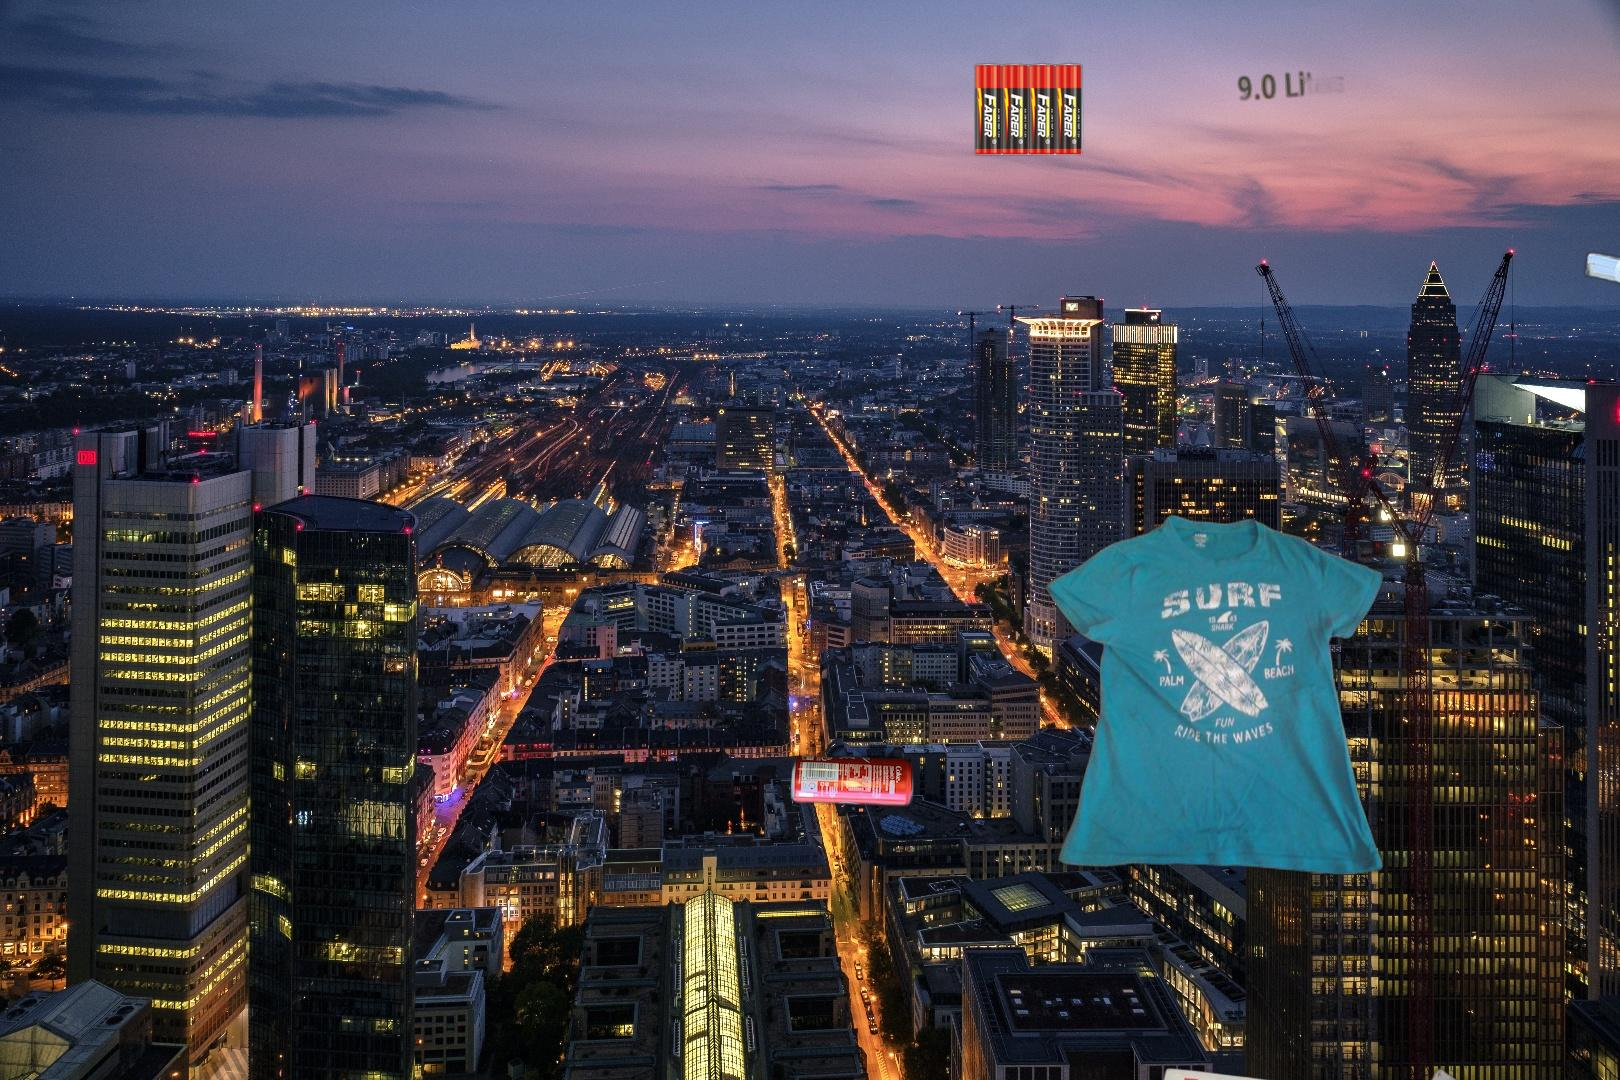battery: (958, 37, 1086, 159)
clothes: (1041, 510, 1386, 879)
glass: (1366, 247, 1620, 644)
metal-cans: (787, 749, 918, 812)
paper: (1141, 1066, 1585, 1080)
paper-bag: (1596, 721, 1620, 1021)
trashbox-cardboard: (1234, 67, 1348, 104)
